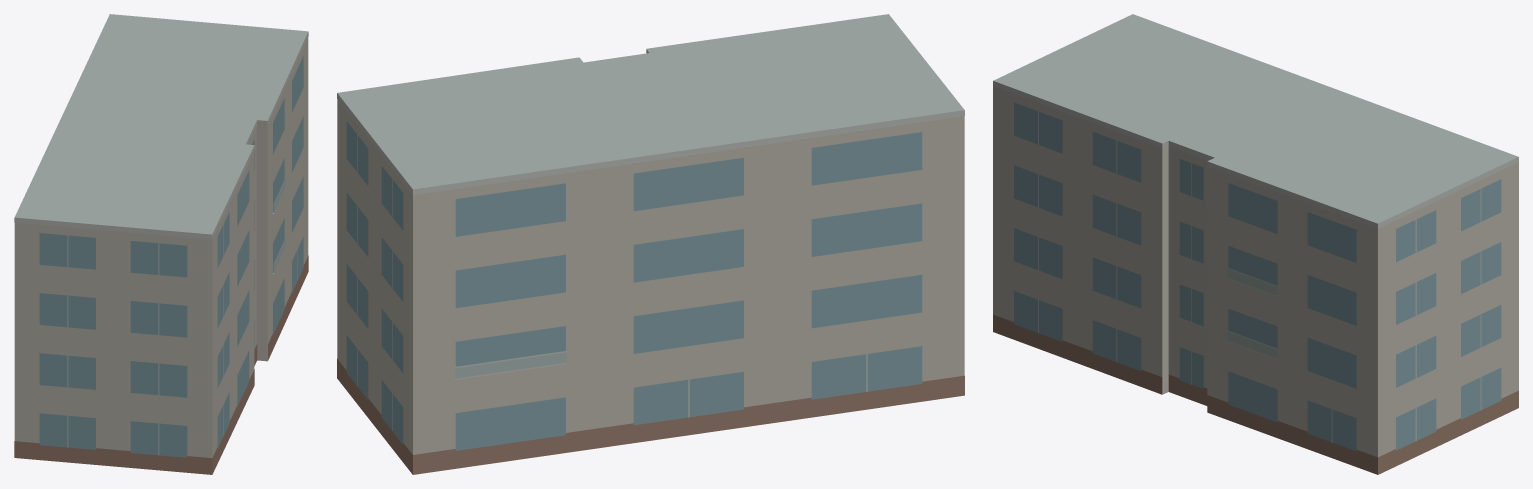
File: survey-upis-32533940.glb
3 renders of one model, left to right at view 1: azimuth 30°, elevation 25°; view 2: azimuth 150°, elevation 25°; view 3: azimuth 270°, elevation 25°, orthographic. The views are drawn at different scales.
Visible parts, largest first — view 1: survey-upis-32533940.tmp; view 2: survey-upis-32533940.tmp; view 3: survey-upis-32533940.tmp.
Boxes of the visible parts, x1,y1,x2,y2 form: survey-upis-32533940.tmp: (14, 14, 308, 474); survey-upis-32533940.tmp: (337, 14, 964, 474); survey-upis-32533940.tmp: (993, 14, 1518, 474).
Bounding box in the file's own units: 21.14 × 11.8 × 22.39.
